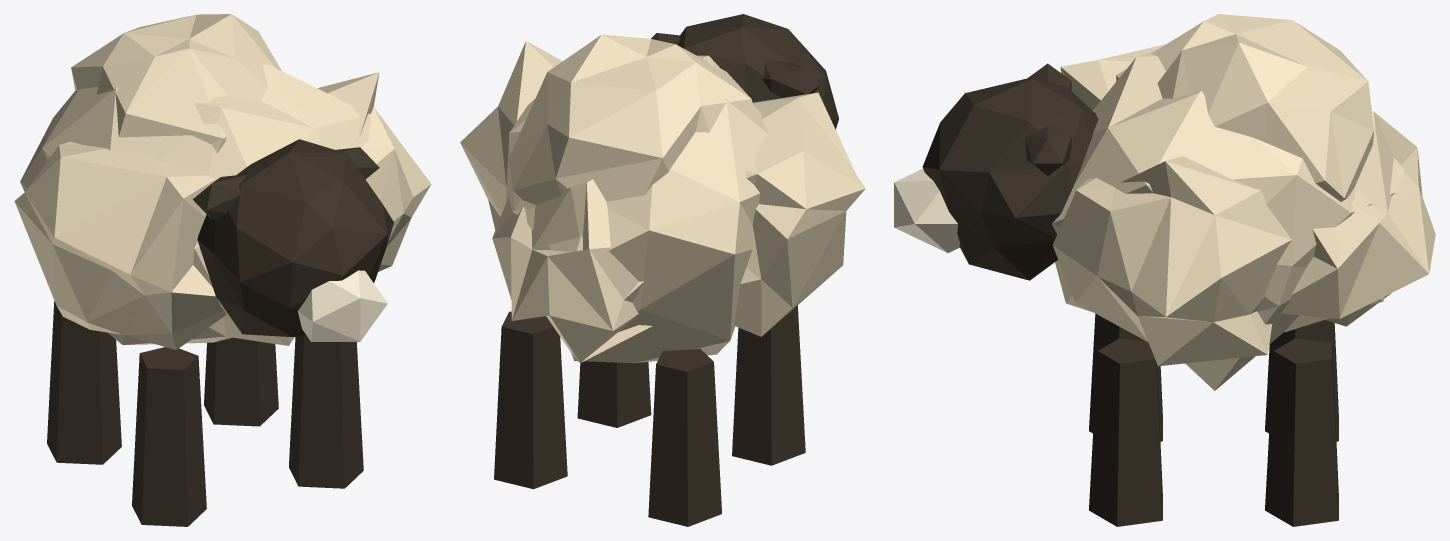
Rendered from sheep.glb.
The picture shows the model from 3 angles, left to right: view 1: azimuth 30°, elevation 25°; view 2: azimuth 150°, elevation 25°; view 3: azimuth 270°, elevation 25°; orthographic projection. The views are drawn at different scales.
Visible parts, largest first — view 1: sheep, Head; view 2: sheep, Head; view 3: sheep, Head.
Part boxes in pixels (left/top/right/bottom): sheep: left=14, top=14, right=431, bottom=526; Head: left=193, top=139, right=393, bottom=341; sheep: left=460, top=34, right=865, bottom=526; Head: left=651, top=14, right=838, bottom=129; sheep: left=1052, top=14, right=1435, bottom=526; Head: left=894, top=63, right=1098, bottom=280.
Size of the model in its own units: 0.6956 by 0.7402 by 0.8125.
